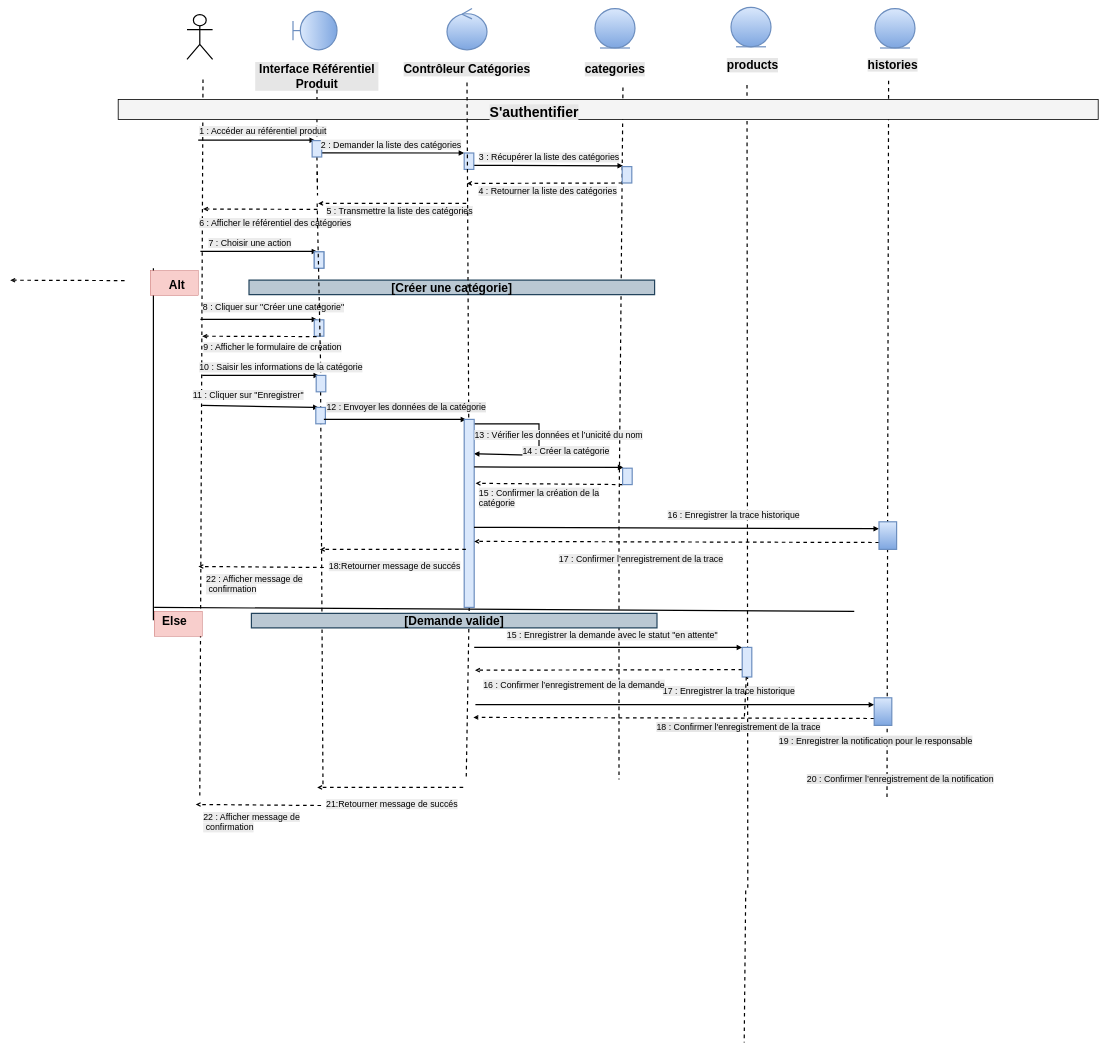
Some shapes in this 1106 by 1050 pixel diagram are drawn without their labels. Here are the shapes that lost their labels. From the top down, the box of each, then its label:
(186, 14, 213, 60): Responsable
(118, 99, 1098, 120): Ref
